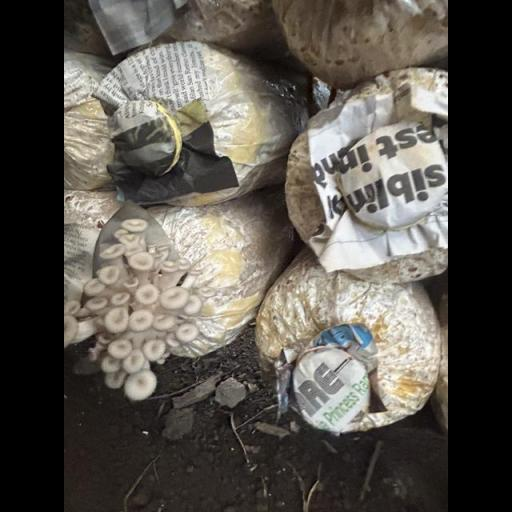White Oyster Mushroom: (65, 217, 219, 404)
